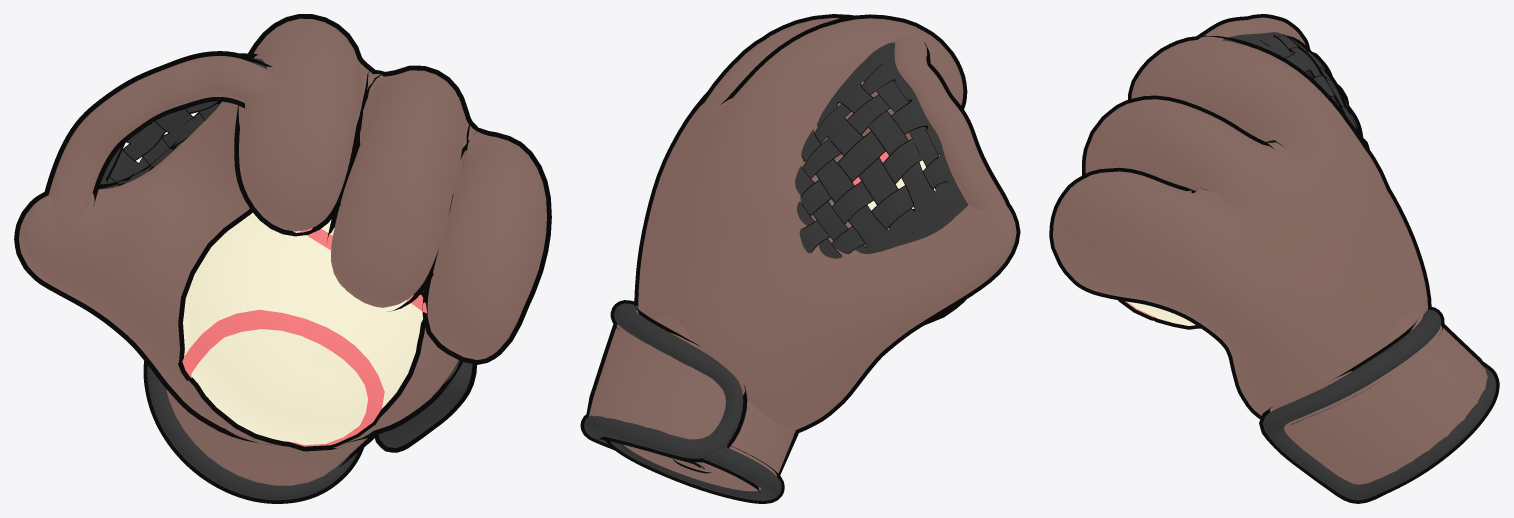
The model's file is LH.SPORT.BASEBALL.glb.
3 renders of one model, left to right at view 1: azimuth 30°, elevation 25°; view 2: azimuth 150°, elevation 25°; view 3: azimuth 270°, elevation 25°, orthographic. The views are drawn at different scales.
Parts seen in each view (by area): view 1: LH.SPORT.BASEBALL; view 2: LH.SPORT.BASEBALL; view 3: LH.SPORT.BASEBALL.
Boxes of the visible parts, box(x1,y1,x2,y2) form: LH.SPORT.BASEBALL: box(14, 14, 551, 503); LH.SPORT.BASEBALL: box(580, 14, 1020, 503); LH.SPORT.BASEBALL: box(1049, 14, 1499, 503).
Bounding box in the file's own units: 0.8359 × 0.9274 × 0.9125.
